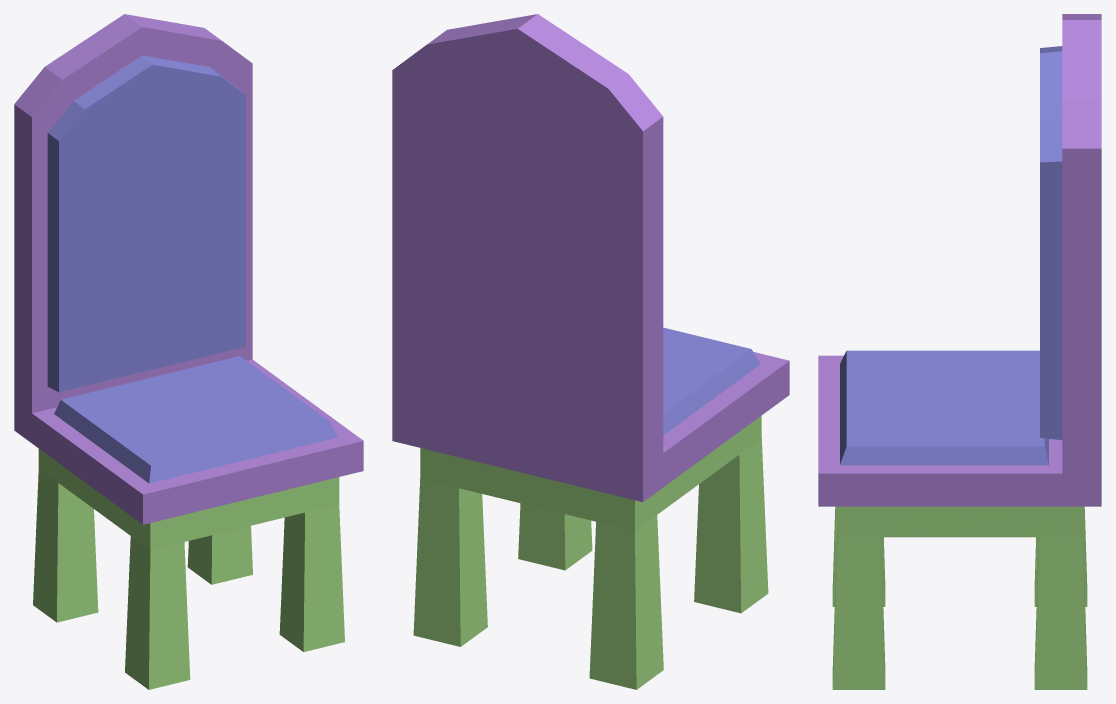
Rendered from ChairCushioned.glb.
The picture shows the model from 3 angles, left to right: view 1: azimuth 30°, elevation 25°; view 2: azimuth 150°, elevation 25°; view 3: azimuth 270°, elevation 25°; orthographic projection. The views are drawn at different scales.
Parts seen in each view (by area): view 1: Cushioned_Chair_2, Cushioned_Chair_1, Cushioned_Chair_0; view 2: Cushioned_Chair_1, Cushioned_Chair_0, Cushioned_Chair_2; view 3: Cushioned_Chair_1, Cushioned_Chair_2, Cushioned_Chair_0.
Boxes of the visible parts, x1,y1,x2,y2 form: Cushioned_Chair_2: [47, 55, 337, 483]; Cushioned_Chair_1: [14, 14, 363, 524]; Cushioned_Chair_0: [33, 449, 344, 689]; Cushioned_Chair_1: [392, 14, 789, 501]; Cushioned_Chair_0: [413, 416, 768, 689]; Cushioned_Chair_2: [663, 327, 760, 435]; Cushioned_Chair_1: [818, 14, 1101, 506]; Cushioned_Chair_2: [840, 46, 1062, 465]; Cushioned_Chair_0: [832, 506, 1087, 689].
Bounding box in the file's own units: 0.4327 × 1.05 × 0.4379.
